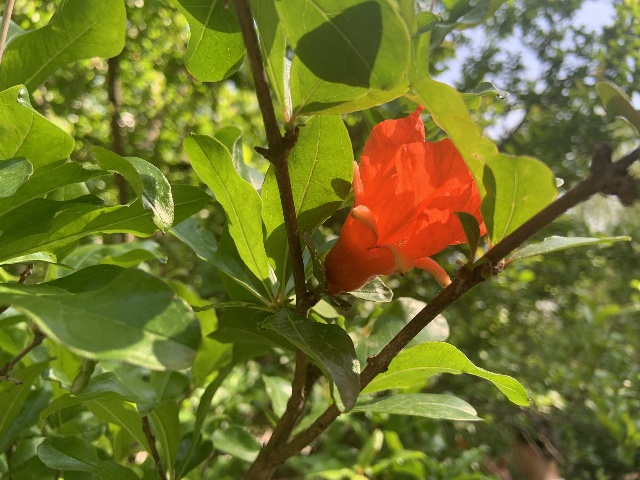flower: (325, 104, 486, 295)
